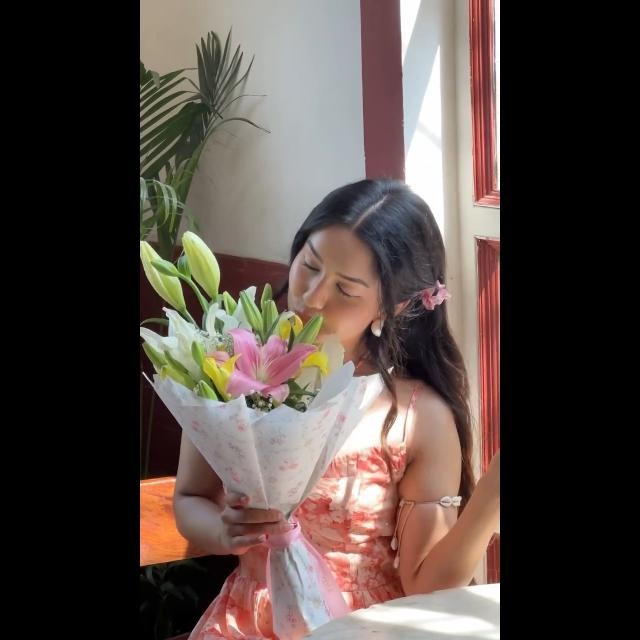ear ring: (369, 313, 387, 335)
